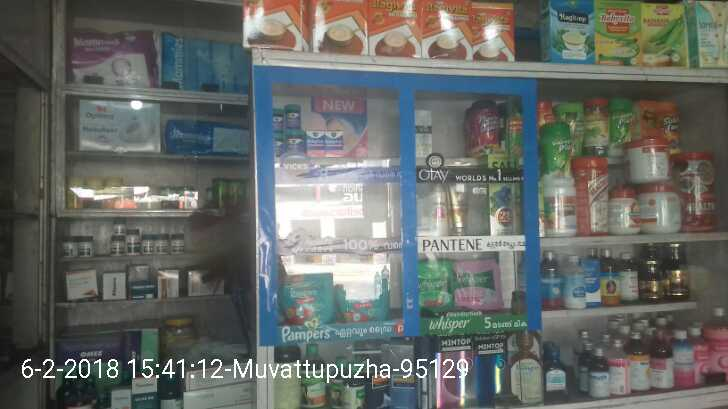vicks: (274, 104, 346, 155)
